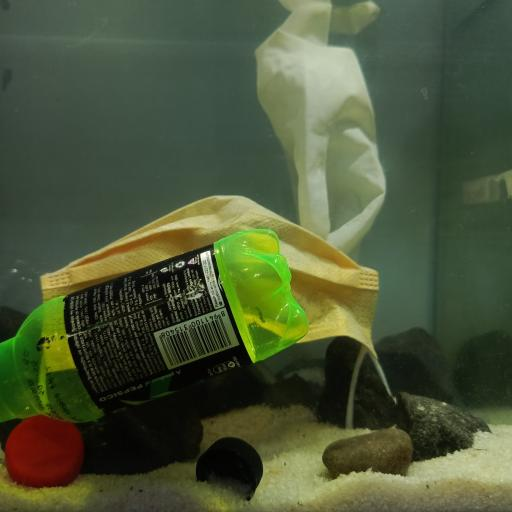bottle_cap: (6, 415, 86, 486), (196, 435, 264, 497)
glove: (254, 23, 389, 269)
mask: (42, 192, 384, 392)
plastic_bottle: (0, 225, 310, 424)
